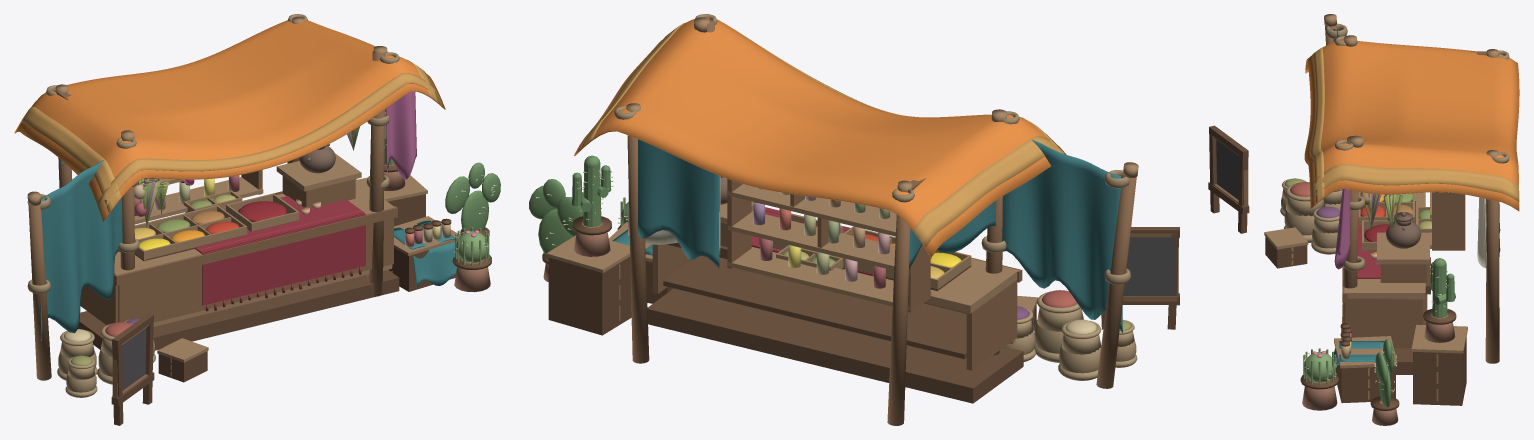
The model's file is negozio_druidico.fbx.
3 renders of one model, left to right at view 1: azimuth 30°, elevation 25°; view 2: azimuth 150°, elevation 25°; view 3: azimuth 270°, elevation 25°, orthographic. The views are drawn at different scales.
Visible parts, largest first — view 1: Canopy_orange, Drape_teal_L, Cloth_red_front, Counter_plinth, Canopy_trim_front, Counter_lip, Post_OL, Canopy_trim_L, Post_FR, Drape_magenta_F, Cloth_red_top, Counter_plank_1 (+29 smaller); view 2: Canopy_orange, Counter_plinth, Drape_teal_L, Counter_shelf, Drape_teal_B, Crate_RB_body, Canopy_trim_L, Post_BL, Shelf_board_0, Post_OL, Shelf_board_1, Post_BR (+19 smaller); view 3: Canopy_orange, Canopy_trim_R, Counter_side_R, Crate_RB_body, Post_BR, Shelf_side_R, Crate_R_body, Counter_top, Canopy_trim_front, Sidetable_top, Easel_panel, Crate_RB_top (+27 smaller).
Boxes of the visible parts, <box> form: Canopy_orange: <box>14,20,445,222</box>; Drape_teal_L: <box>40,160,123,340</box>; Cloth_red_front: <box>202,214,365,305</box>; Counter_plinth: <box>78,270,399,350</box>; Canopy_trim_front: <box>97,73,442,213</box>; Counter_lip: <box>114,206,397,285</box>; Post_OL: <box>28,204,51,380</box>; Canopy_trim_L: <box>19,107,120,212</box>; Post_FR: <box>367,51,385,296</box>; Drape_magenta_F: <box>386,92,416,179</box>; Cloth_red_top: <box>195,196,364,253</box>; Counter_plank_1: <box>158,266,197,321</box>; Canopy_orange: <box>574,17,1055,257</box>; Counter_plinth: <box>647,288,1023,403</box>; Drape_teal_L: <box>1002,140,1122,333</box>; Counter_shelf: <box>663,256,966,358</box>; Drape_teal_B: <box>638,139,719,268</box>; Crate_RB_body: <box>548,257,631,335</box>; Canopy_trim_L: <box>913,136,1066,247</box>; Post_BL: <box>887,214,910,425</box>; Shelf_board_0: <box>727,247,931,310</box>; Post_OL: <box>1096,175,1136,388</box>; Shelf_board_1: <box>727,211,931,274</box>; Post_BR: <box>627,135,649,363</box>; Canopy_orange: <box>1304,40,1519,211</box>; Canopy_trim_R: <box>1310,164,1519,201</box>; Counter_side_R: <box>1347,298,1422,348</box>; Crate_RB_body: <box>1413,337,1466,405</box>; Post_BR: <box>1485,199,1499,363</box>; Shelf_side_R: <box>1432,192,1465,250</box>; Crate_R_body: <box>1336,365,1395,403</box>; Counter_top: <box>1344,192,1425,299</box>; Canopy_trim_front: <box>1310,47,1324,203</box>; Sidetable_top: <box>1377,232,1429,264</box>; Easel_panel: <box>1216,139,1239,199</box>; Crate_RB_top: <box>1411,324,1467,353</box>.
Bounding box in the file's own units: 630 × 296 × 352.
